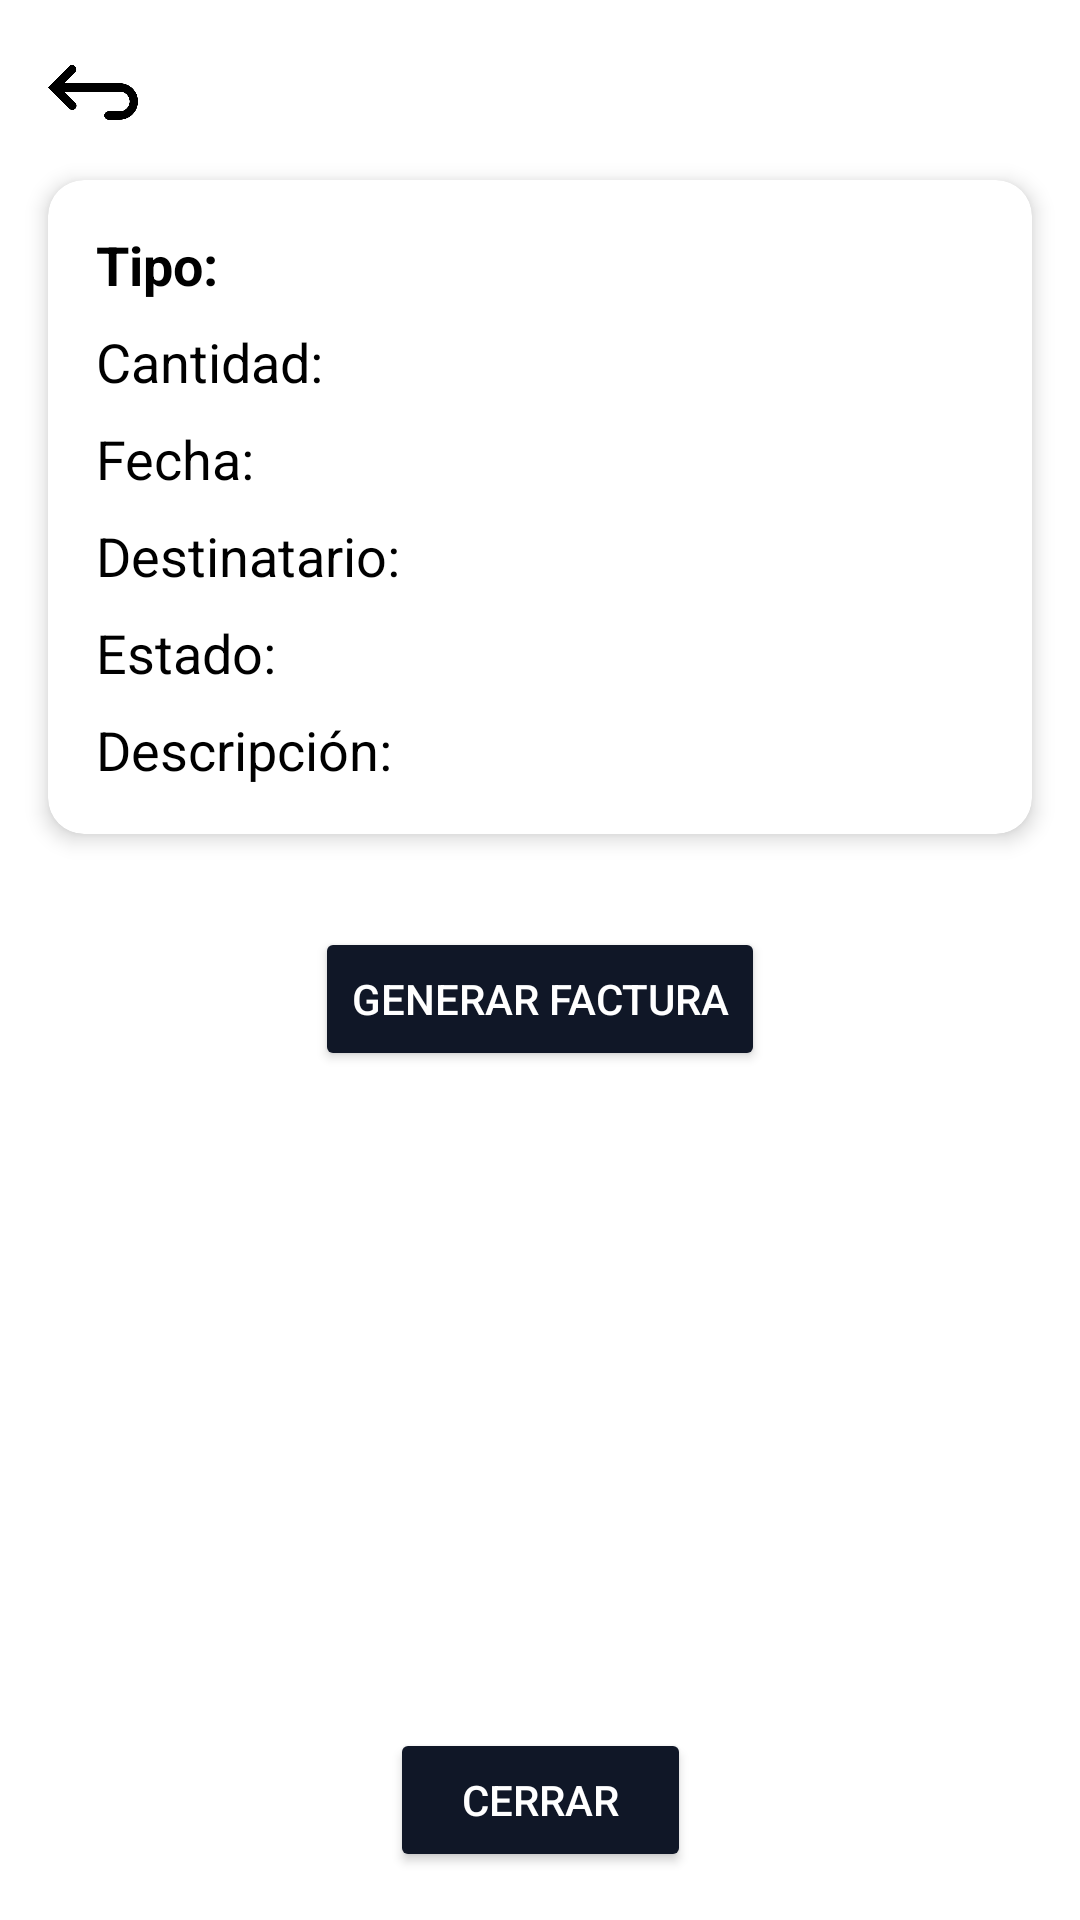

Named icons in this screenshot (1080px×1920px) and their centers, (x=x, y=y):
pajamas go back: (x=93, y=92)
